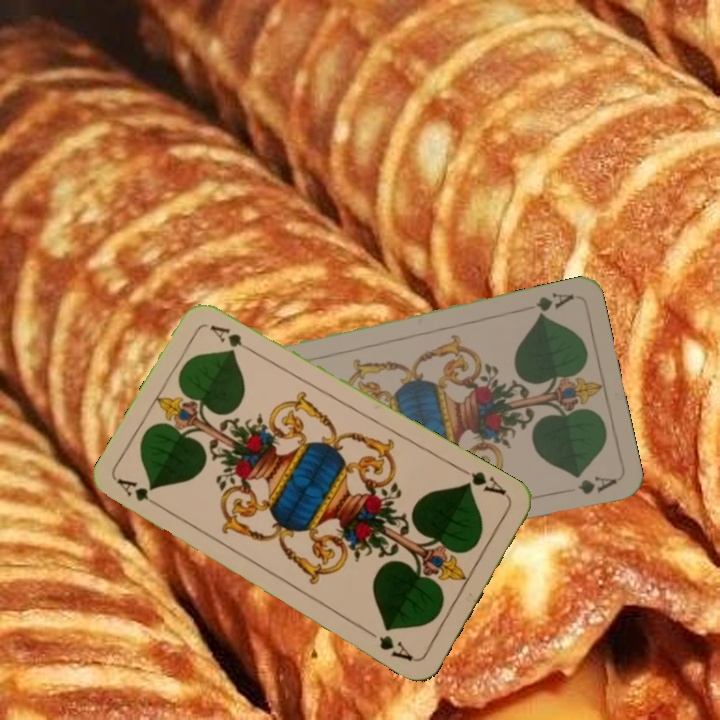GA: (114, 474, 167, 513), (456, 464, 509, 500), (531, 289, 576, 320)
